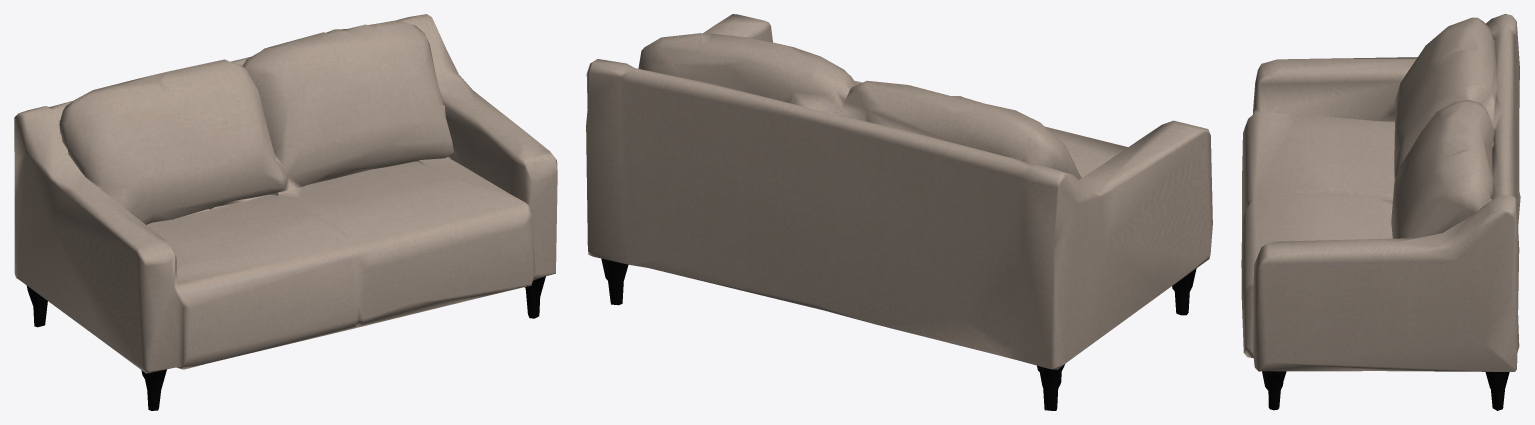
Rendered from 09 - GULLVALLA 2-seat sofa - Silkeryd dark grey-beige.glb.
3 renders of one model, left to right at view 1: azimuth 30°, elevation 25°; view 2: azimuth 150°, elevation 25°; view 3: azimuth 270°, elevation 25°, orthographic. The views are drawn at different scales.
Visible parts, largest first — view 1: ASY_ART_30618500_S01_NV01; view 2: ASY_ART_30618500_S01_NV01; view 3: ASY_ART_30618500_S01_NV01.
Boxes of the visible parts, x1,y1,x2,y2 form: ASY_ART_30618500_S01_NV01: (14, 14, 557, 410); ASY_ART_30618500_S01_NV01: (586, 14, 1212, 410); ASY_ART_30618500_S01_NV01: (1241, 14, 1520, 410).
Size of the model in its own units: 1.43 by 0.7807 by 0.8478.
1 material, 1 textured.
